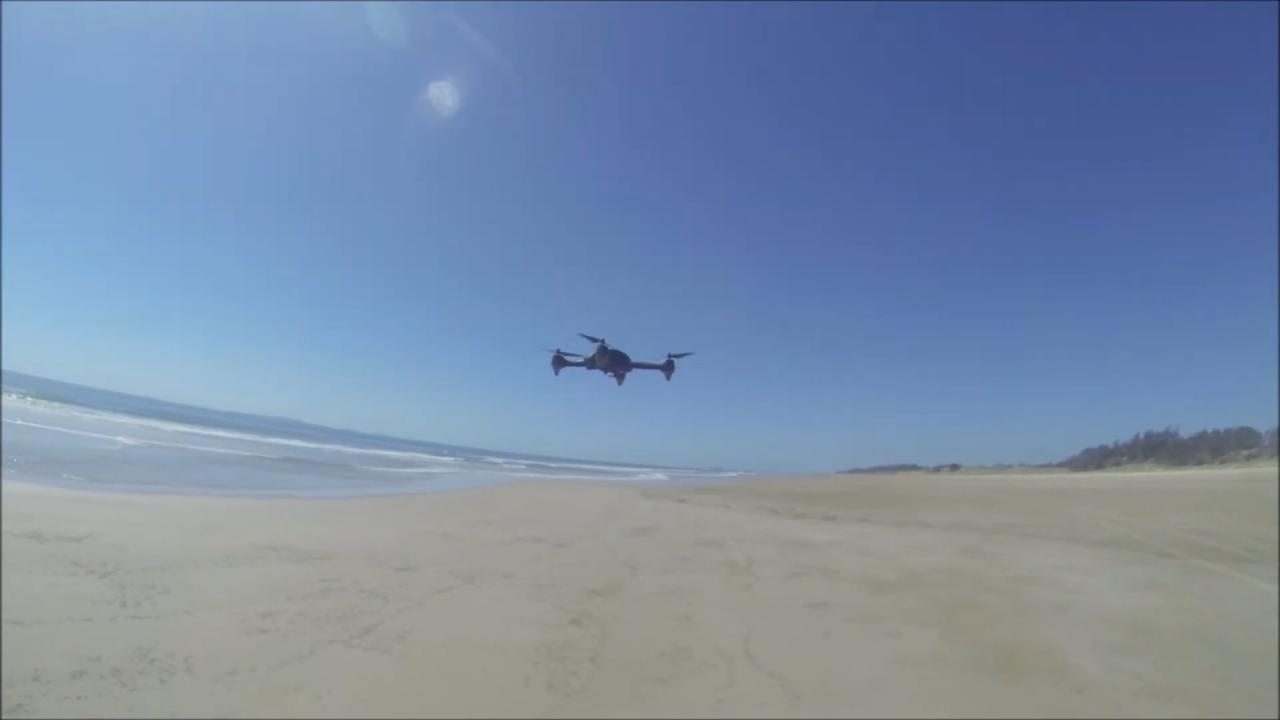Drone: (531, 322, 705, 397)
